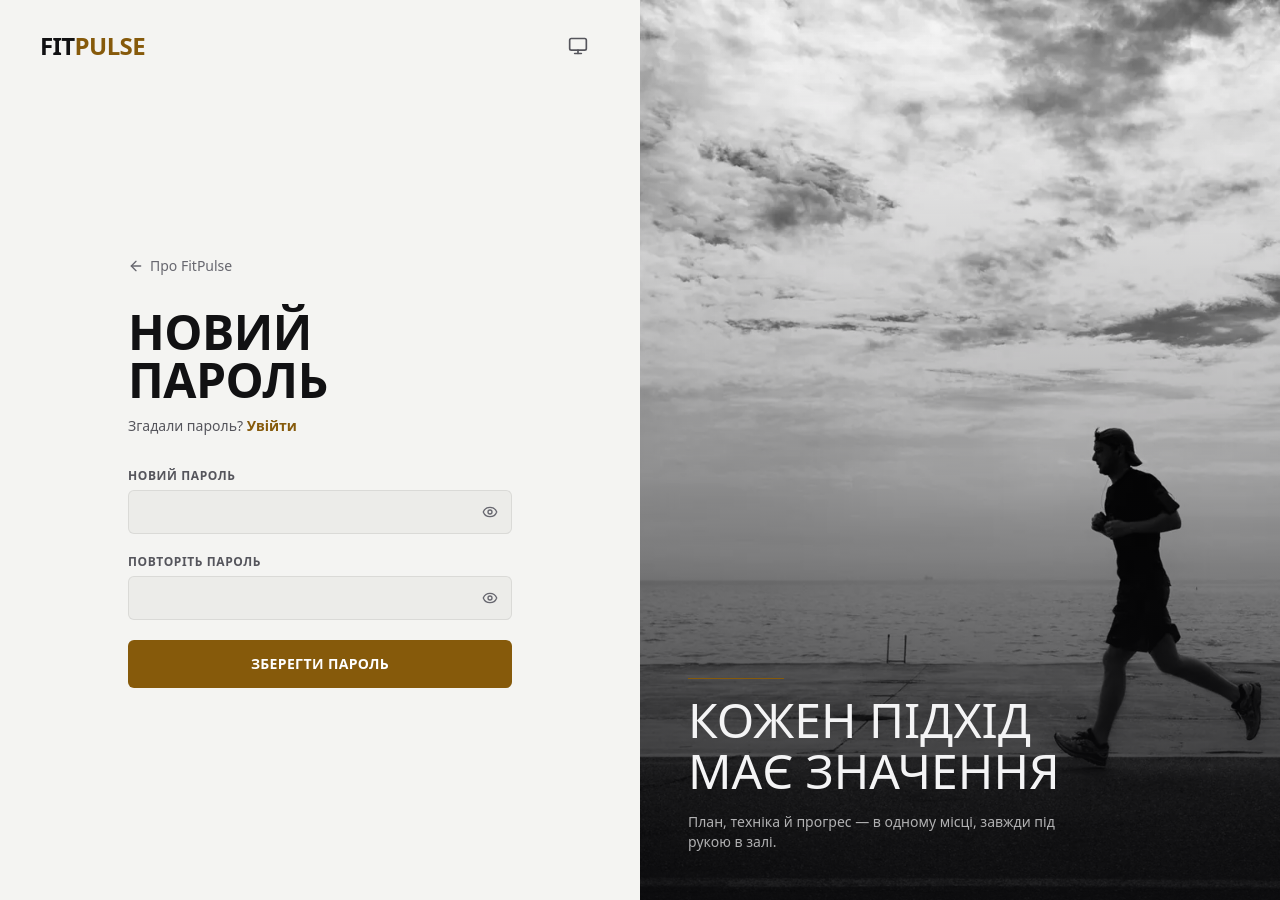
ResetPasswordPage › sends the token and the new password, then shows the sign-in link
This screenshot has width=1280, height=900.
Type "brandnew123" into the password field labelled "Новий пароль" at [320, 512], box x1=128 y1=490 x2=512 y2=534
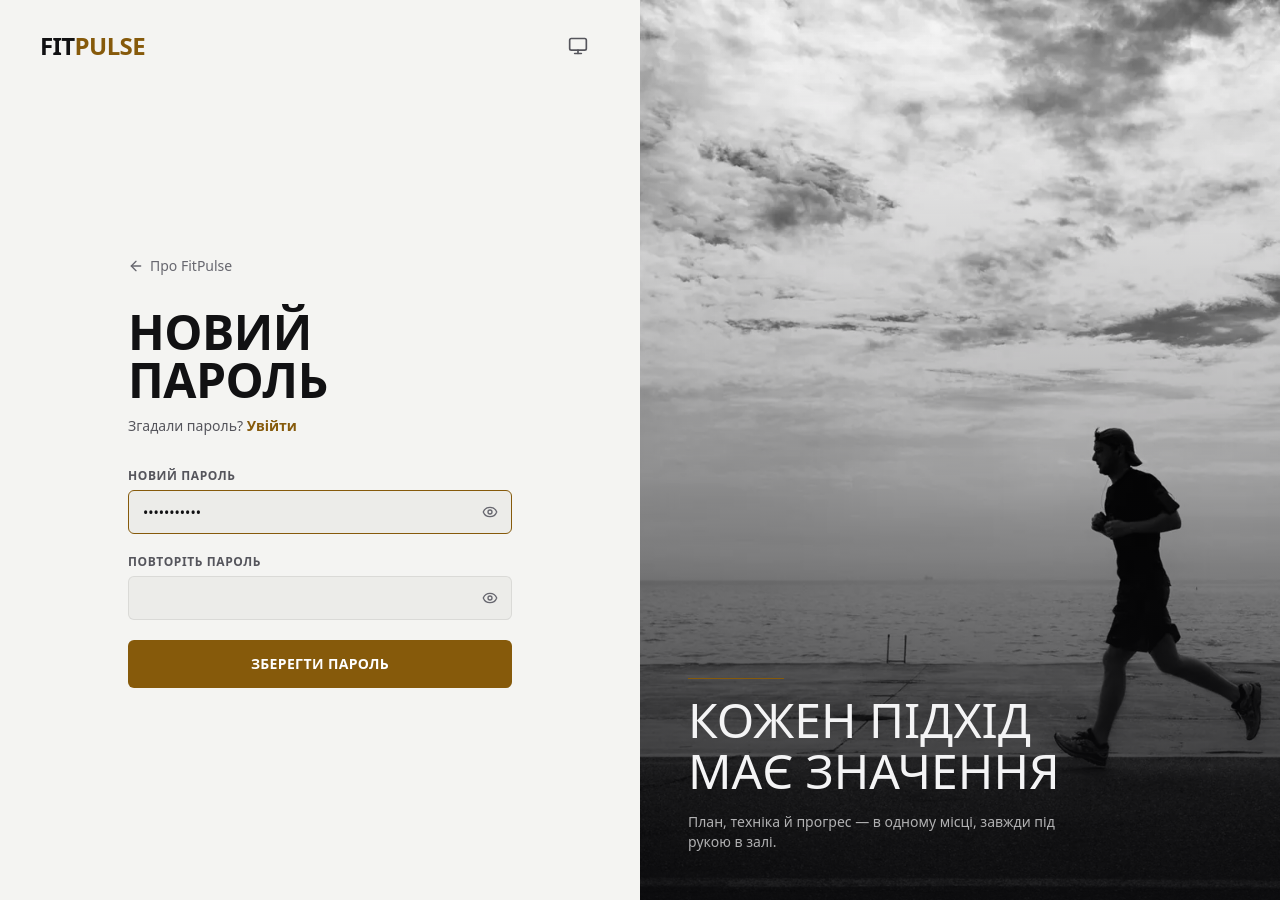
Type "brandnew123" into the password field labelled "Повторіть пароль" at [320, 598], box x1=128 y1=576 x2=512 y2=620
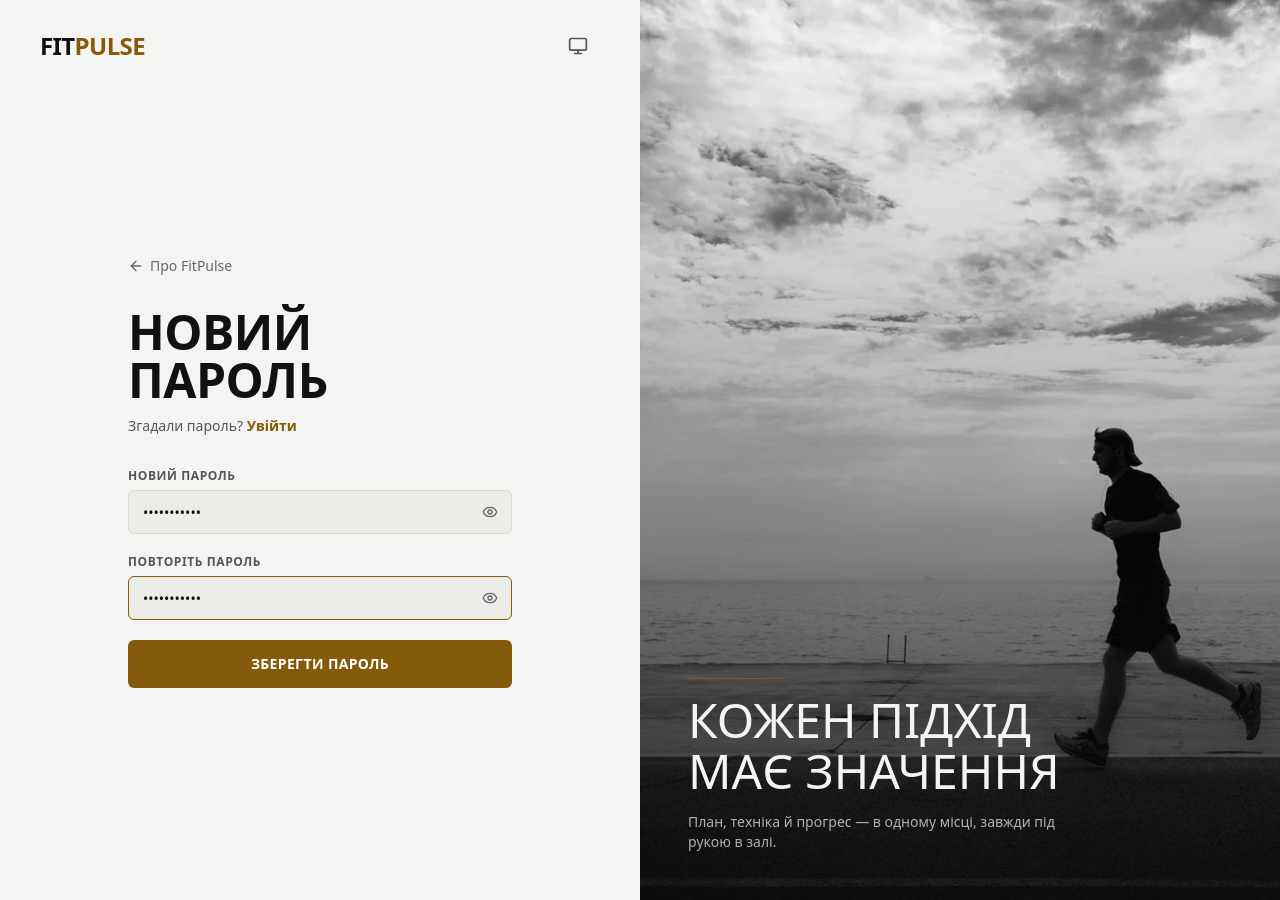
Click the button "Зберегти пароль" at [320, 664], box x1=128 y1=640 x2=512 y2=688
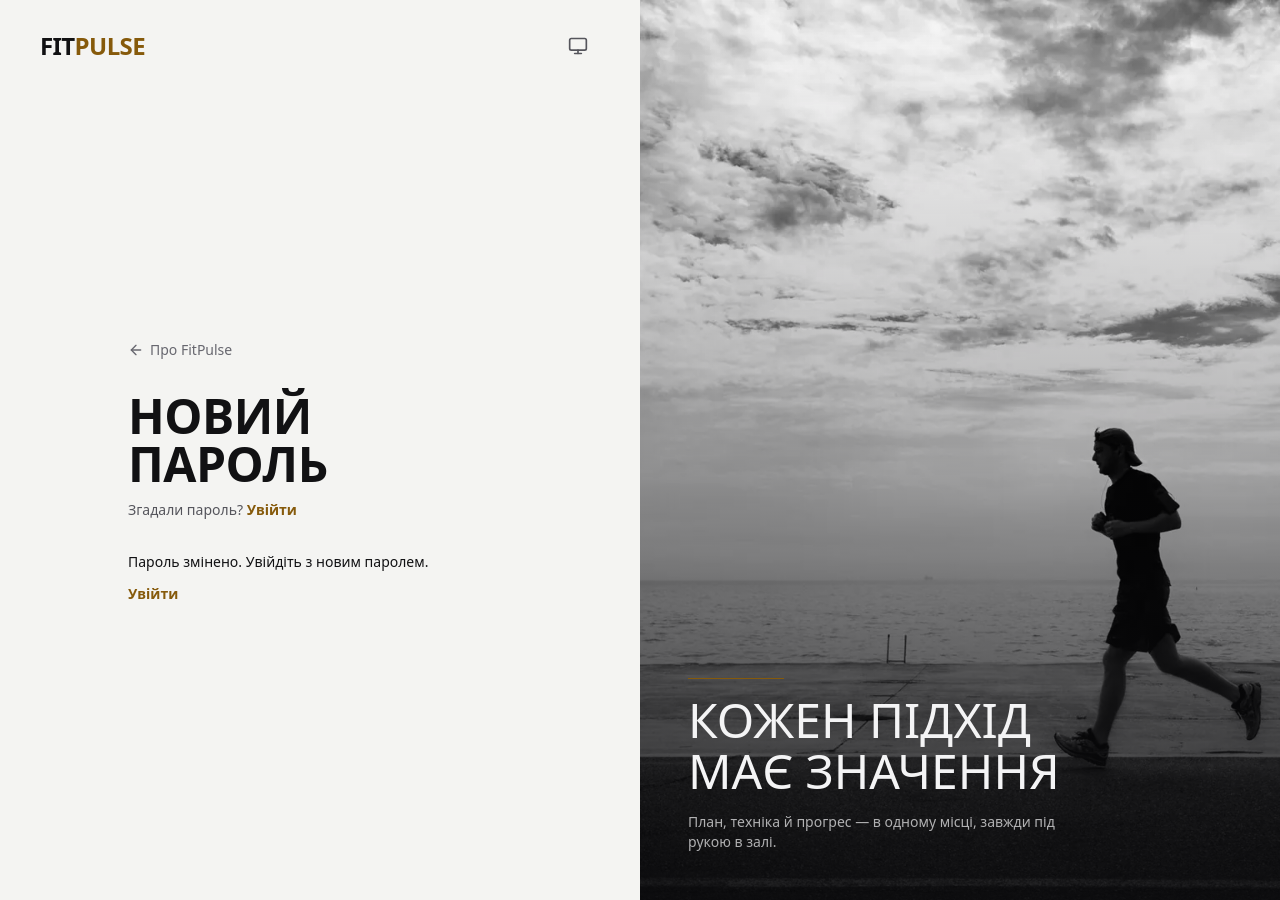
Expected: the text "Пароль змінено. Увійдіть з новим паролем." is shown, x1=128 y1=552 x2=428 y2=571
